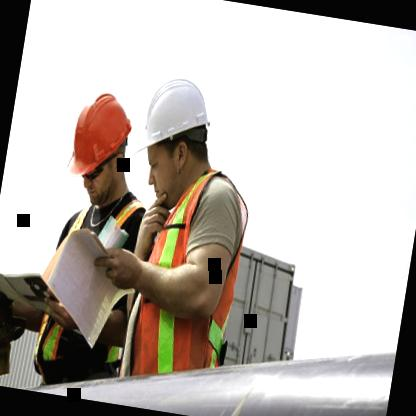helmet: (119, 54, 228, 214), (52, 79, 154, 218)
